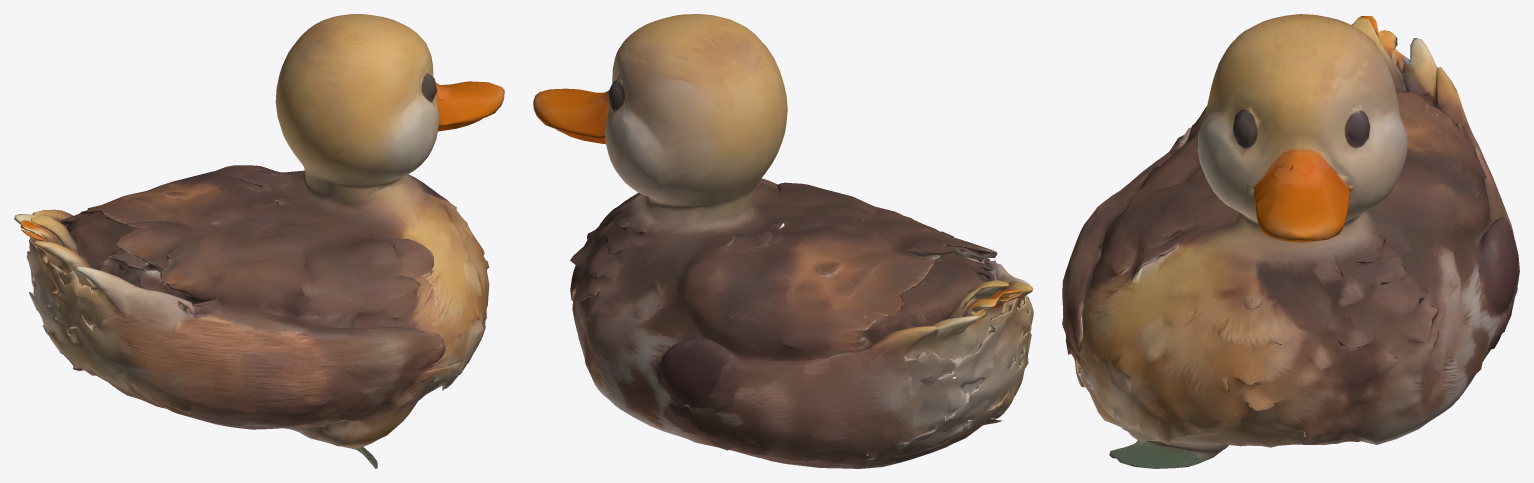
Rendered from duck.glb.
3 views of the same model, side by side, from view 1: azimuth 30°, elevation 25°; view 2: azimuth 150°, elevation 25°; view 3: azimuth 270°, elevation 25° (orthographic). The views are drawn at different scales.
Parts seen in each view (by area): view 1: tripo_node_f3c9290c-d519-4174-8671-f00a4e8f924a; view 2: tripo_node_f3c9290c-d519-4174-8671-f00a4e8f924a; view 3: tripo_node_f3c9290c-d519-4174-8671-f00a4e8f924a.
Boxes of the visible parts, bbox=[...] form: tripo_node_f3c9290c-d519-4174-8671-f00a4e8f924a: bbox=[14, 14, 504, 468]; tripo_node_f3c9290c-d519-4174-8671-f00a4e8f924a: bbox=[533, 14, 1033, 468]; tripo_node_f3c9290c-d519-4174-8671-f00a4e8f924a: bbox=[1062, 14, 1519, 468].
Bounding box in the file's own units: 0.9973 × 0.7873 × 0.6938.
1 material, 1 textured.
